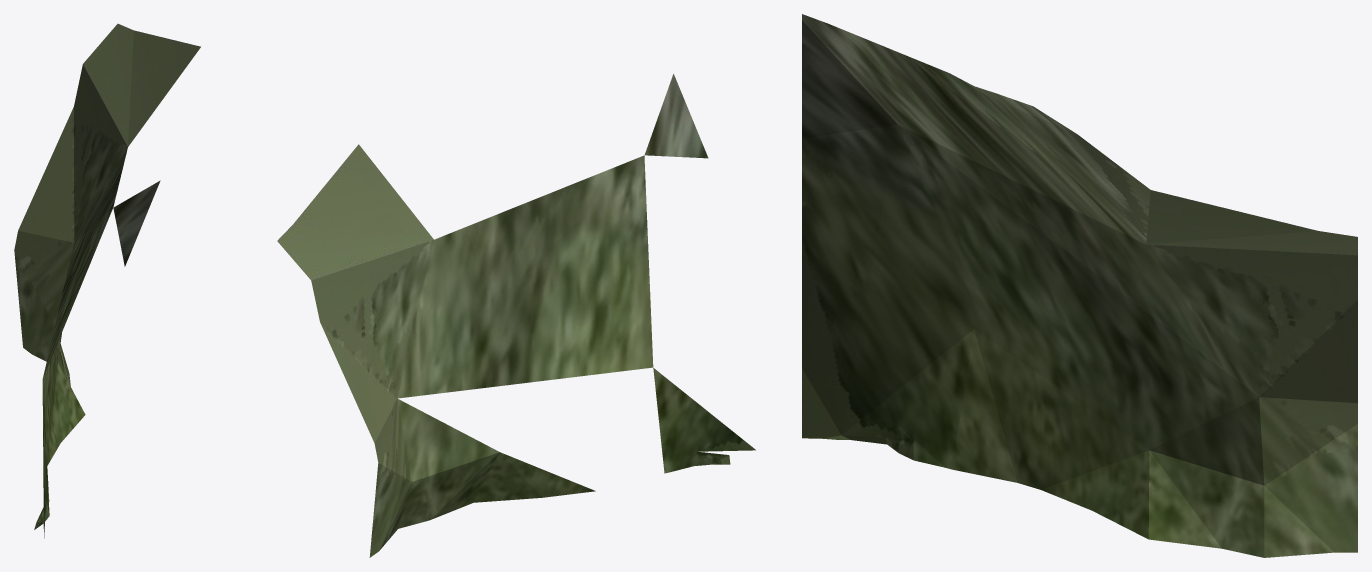
The picture shows the model from 3 angles, left to right: view 1: azimuth 30°, elevation 25°; view 2: azimuth 150°, elevation 25°; view 3: azimuth 270°, elevation 25°; orthographic projection. The views are drawn at different scales.
Size of the model in its own units: 2.16 by 2.95 by 2.95.
Materials: 3 (3 with a texture image).
